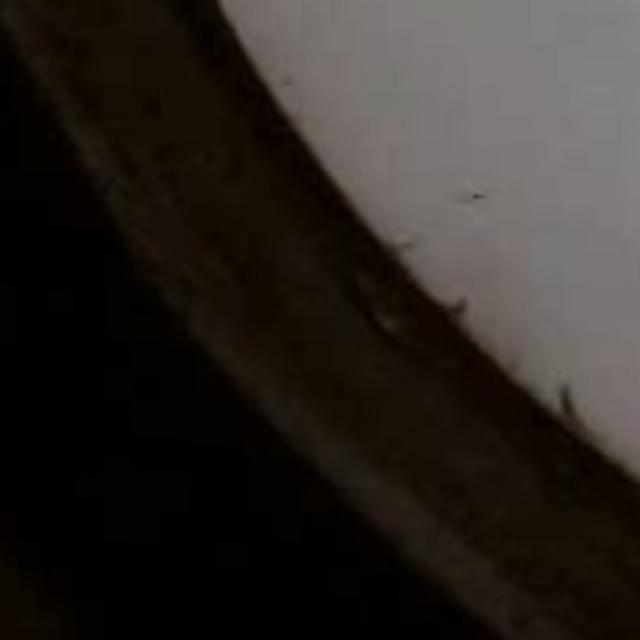shrimp-seed: (442, 188, 516, 225)
